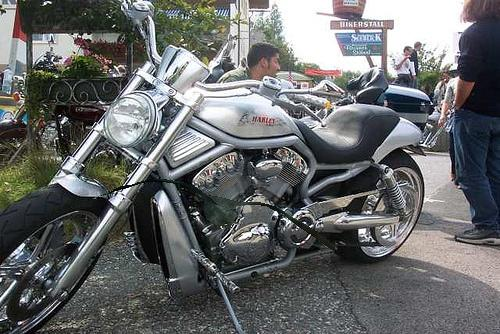tampered: (94, 180, 336, 252)
